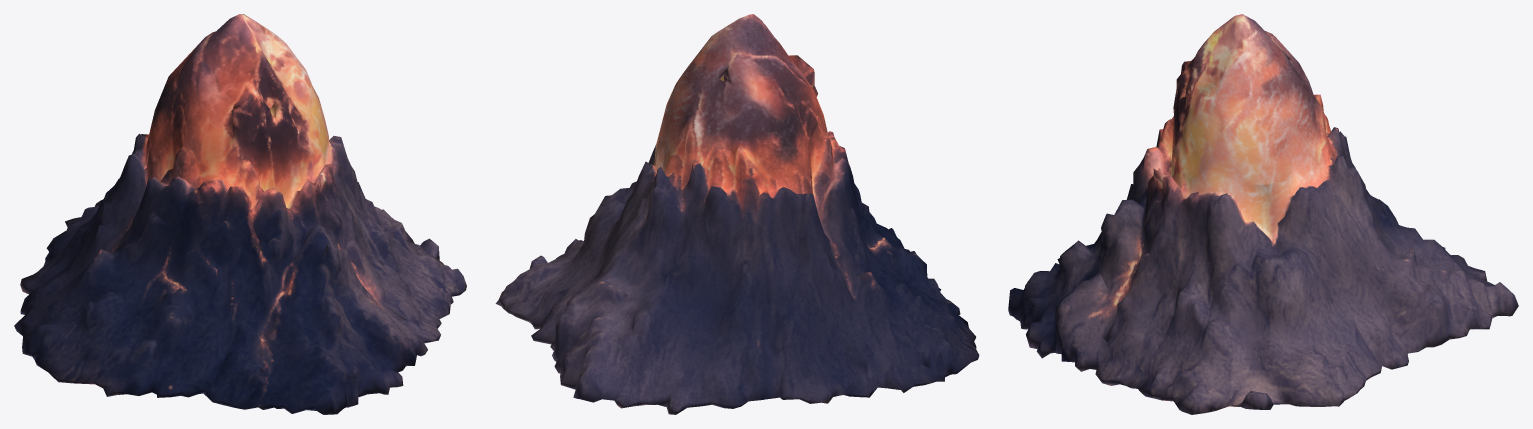
The model's file is sanctuary.glb.
3 views of the same model, side by side, from view 1: azimuth 30°, elevation 25°; view 2: azimuth 150°, elevation 25°; view 3: azimuth 270°, elevation 25° (orthographic). The views are drawn at different scales.
Parts seen in each view (by area): view 1: low; view 2: low; view 3: low.
Part boxes in pixels (<box>): low: <box>14,14,466,414</box>; low: <box>495,14,979,414</box>; low: <box>1008,14,1518,414</box>.
Size of the model in its own units: 139 by 102 by 150.
Materials: 1 (1 with a texture image).
